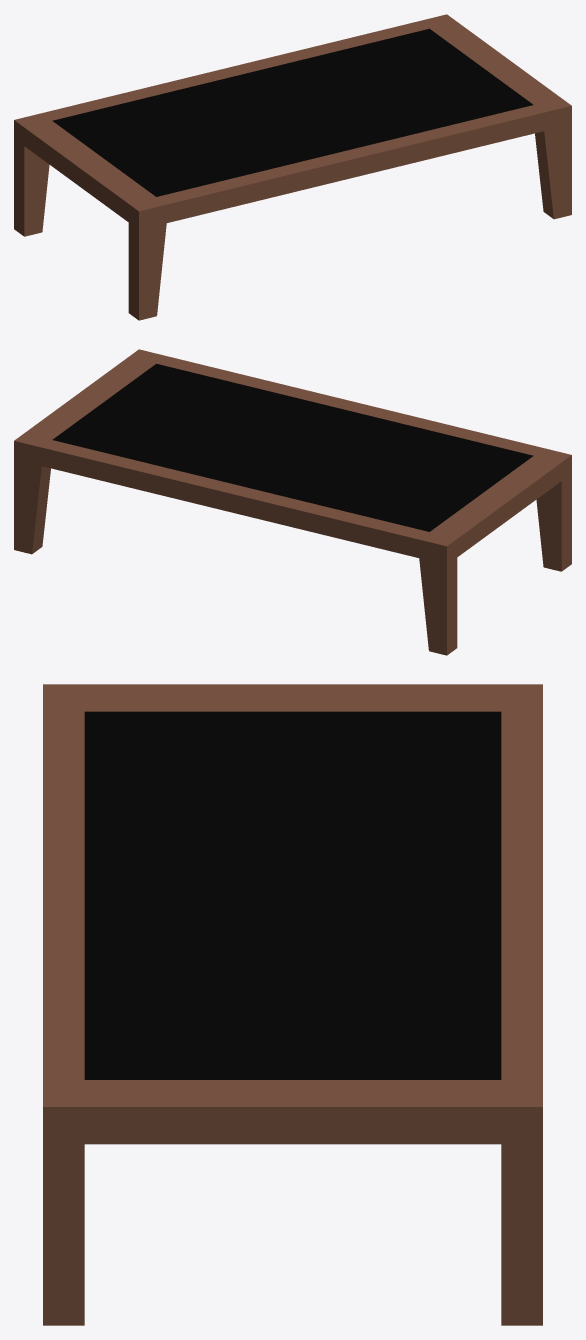
File: Small_Long_Table.fbx
3 renders of one model, top to bottom at view 1: azimuth 30°, elevation 25°; view 2: azimuth 150°, elevation 25°; view 3: azimuth 270°, elevation 25°, orthographic. The views are drawn at different scales.
Visible parts, largest first — view 1: Small_Long_Table; view 2: Small_Long_Table; view 3: Small_Long_Table.
Boxes of the visible parts, bbox=[...] form: Small_Long_Table: bbox=[14, 14, 571, 320]; Small_Long_Table: bbox=[14, 349, 571, 655]; Small_Long_Table: bbox=[43, 684, 542, 1325].
Bounding box in the file's own units: 2 × 0.4821 × 1.
